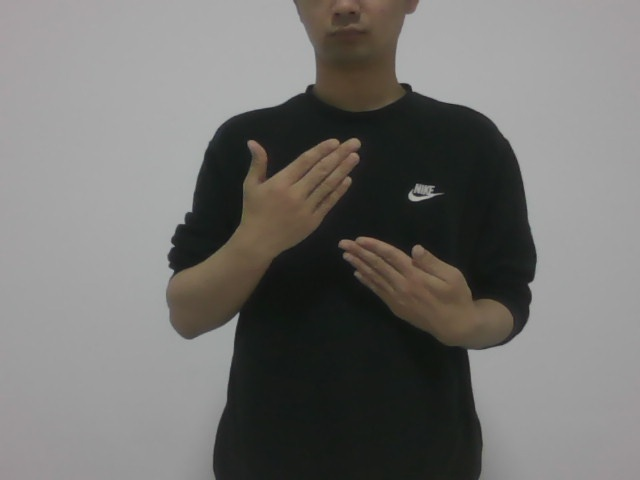tea: (228, 126, 479, 348)
